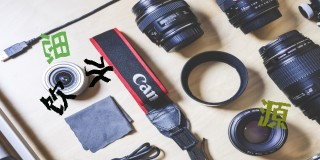思: (40, 31, 72, 64)
水: (83, 56, 114, 88)
源: (257, 98, 290, 130)
饮: (39, 80, 79, 116)
